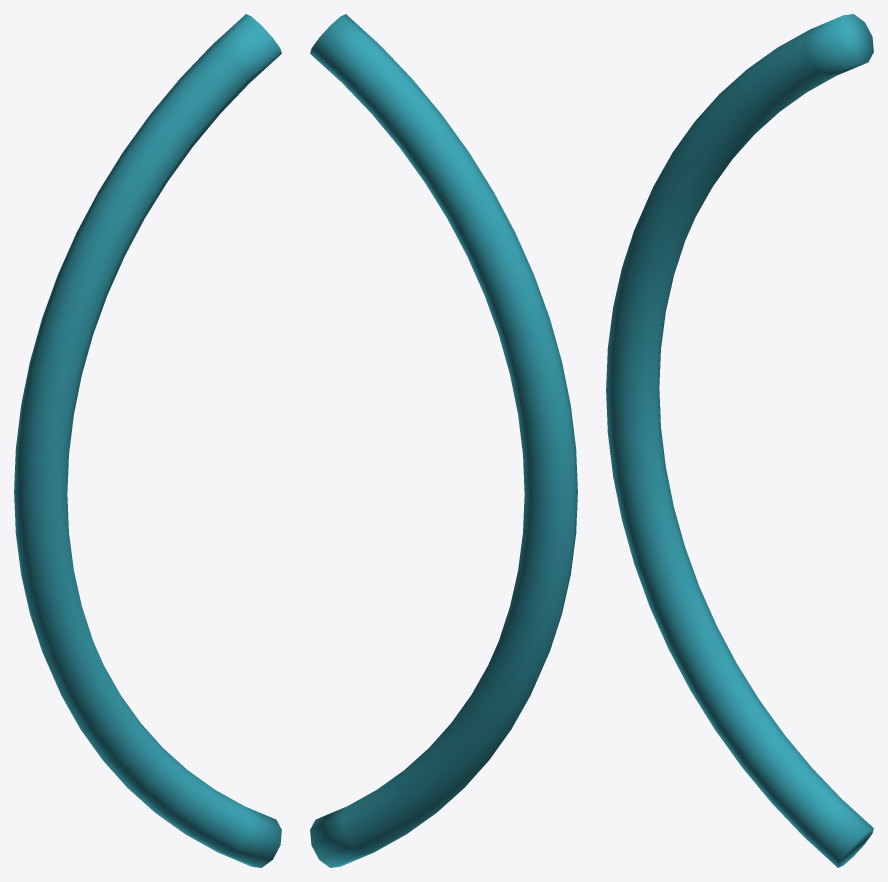
The model's file is SM_Puzzle_PerspectiveArc_02.fbx.
3 renders of one model, left to right at view 1: azimuth 30°, elevation 25°; view 2: azimuth 150°, elevation 25°; view 3: azimuth 330°, elevation 25°, orthographic.
Parts seen in each view (by area): view 1: Arc_fragment.001; view 2: Arc_fragment.001; view 3: Arc_fragment.001.
Boxes of the visible parts, bbox=[...] form: Arc_fragment.001: bbox=[14, 14, 281, 867]; Arc_fragment.001: bbox=[310, 14, 577, 867]; Arc_fragment.001: bbox=[606, 14, 873, 867].
Bounding box in the file's own units: 29 × 4.95 × 90.99.
